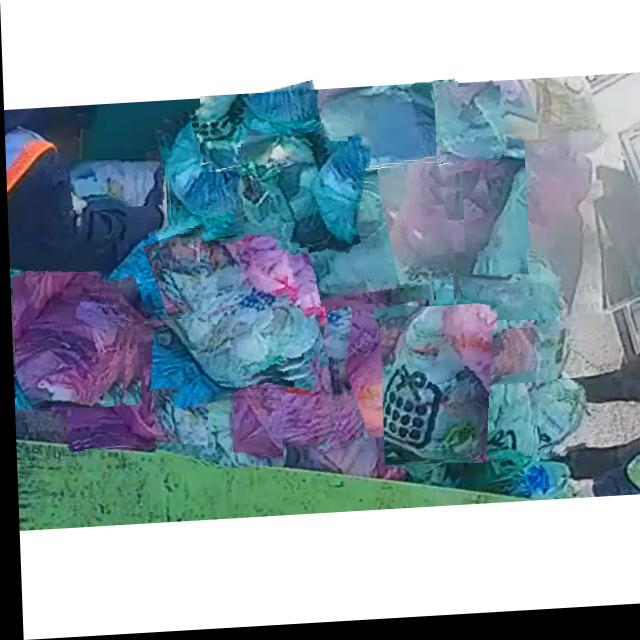general_trashbag: (140, 248, 318, 387), (285, 187, 464, 310), (381, 312, 481, 466), (166, 111, 277, 232), (318, 89, 458, 175), (241, 139, 343, 251), (154, 397, 280, 471), (199, 104, 321, 173), (104, 233, 196, 321), (458, 258, 557, 335), (470, 372, 533, 461), (435, 98, 502, 165), (532, 386, 583, 463)
other_trashbag: (274, 299, 436, 443), (66, 326, 202, 447), (395, 152, 521, 279), (13, 273, 128, 408), (235, 306, 334, 450), (477, 320, 530, 395), (69, 162, 158, 203)
